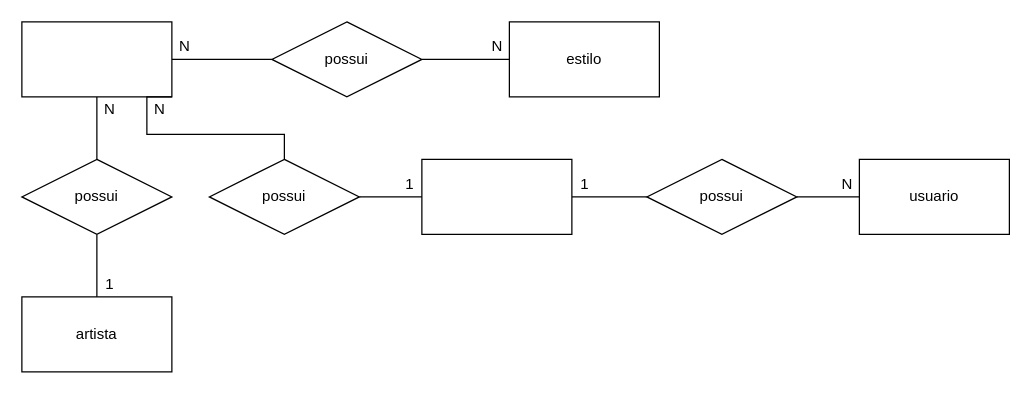
Some shapes in this 1031 by 394 pixel diagram are drawn without their labels. The centre of each missing label's shape, as x and y in pixels:
album: the point at 96,59
sistema: the point at 496,196
